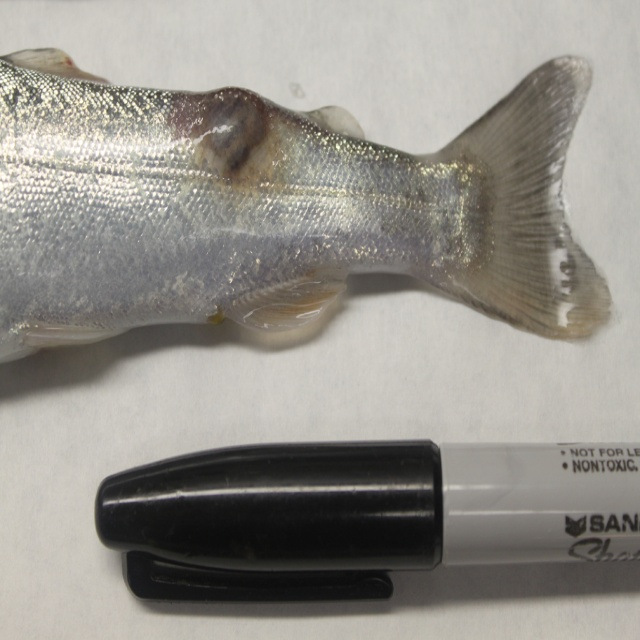Fish: (10, 37, 617, 378)
